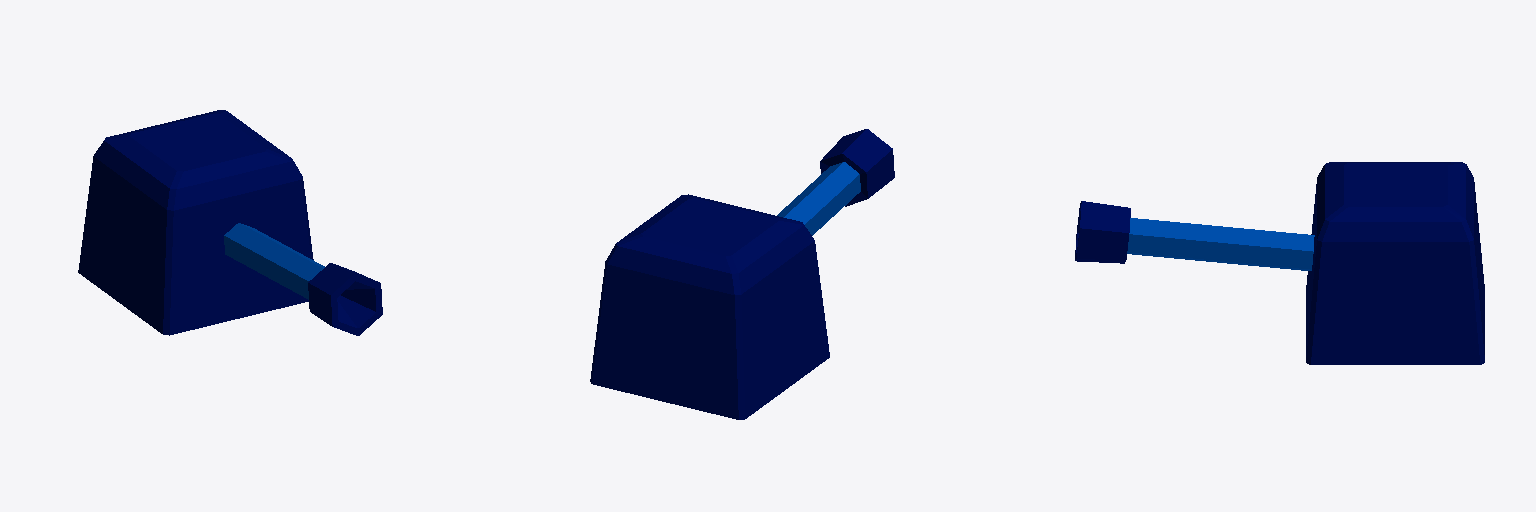
File: PlayerTankCannon.obj
3 renders of one model, left to right at view 1: azimuth 30°, elevation 25°; view 2: azimuth 150°, elevation 25°; view 3: azimuth 270°, elevation 25°, orthographic.
Visible parts, largest first — view 1: Cylinder.001; view 2: Cylinder.001; view 3: Cylinder.001.
Part boxes in pixels (left/top/right/bottom): Cylinder.001: left=78, top=110, right=382, bottom=335; Cylinder.001: left=590, top=129, right=894, bottom=419; Cylinder.001: left=1075, top=162, right=1484, bottom=364.
Size of the model in its own units: 0.2653 by 0.2323 by 0.6074.